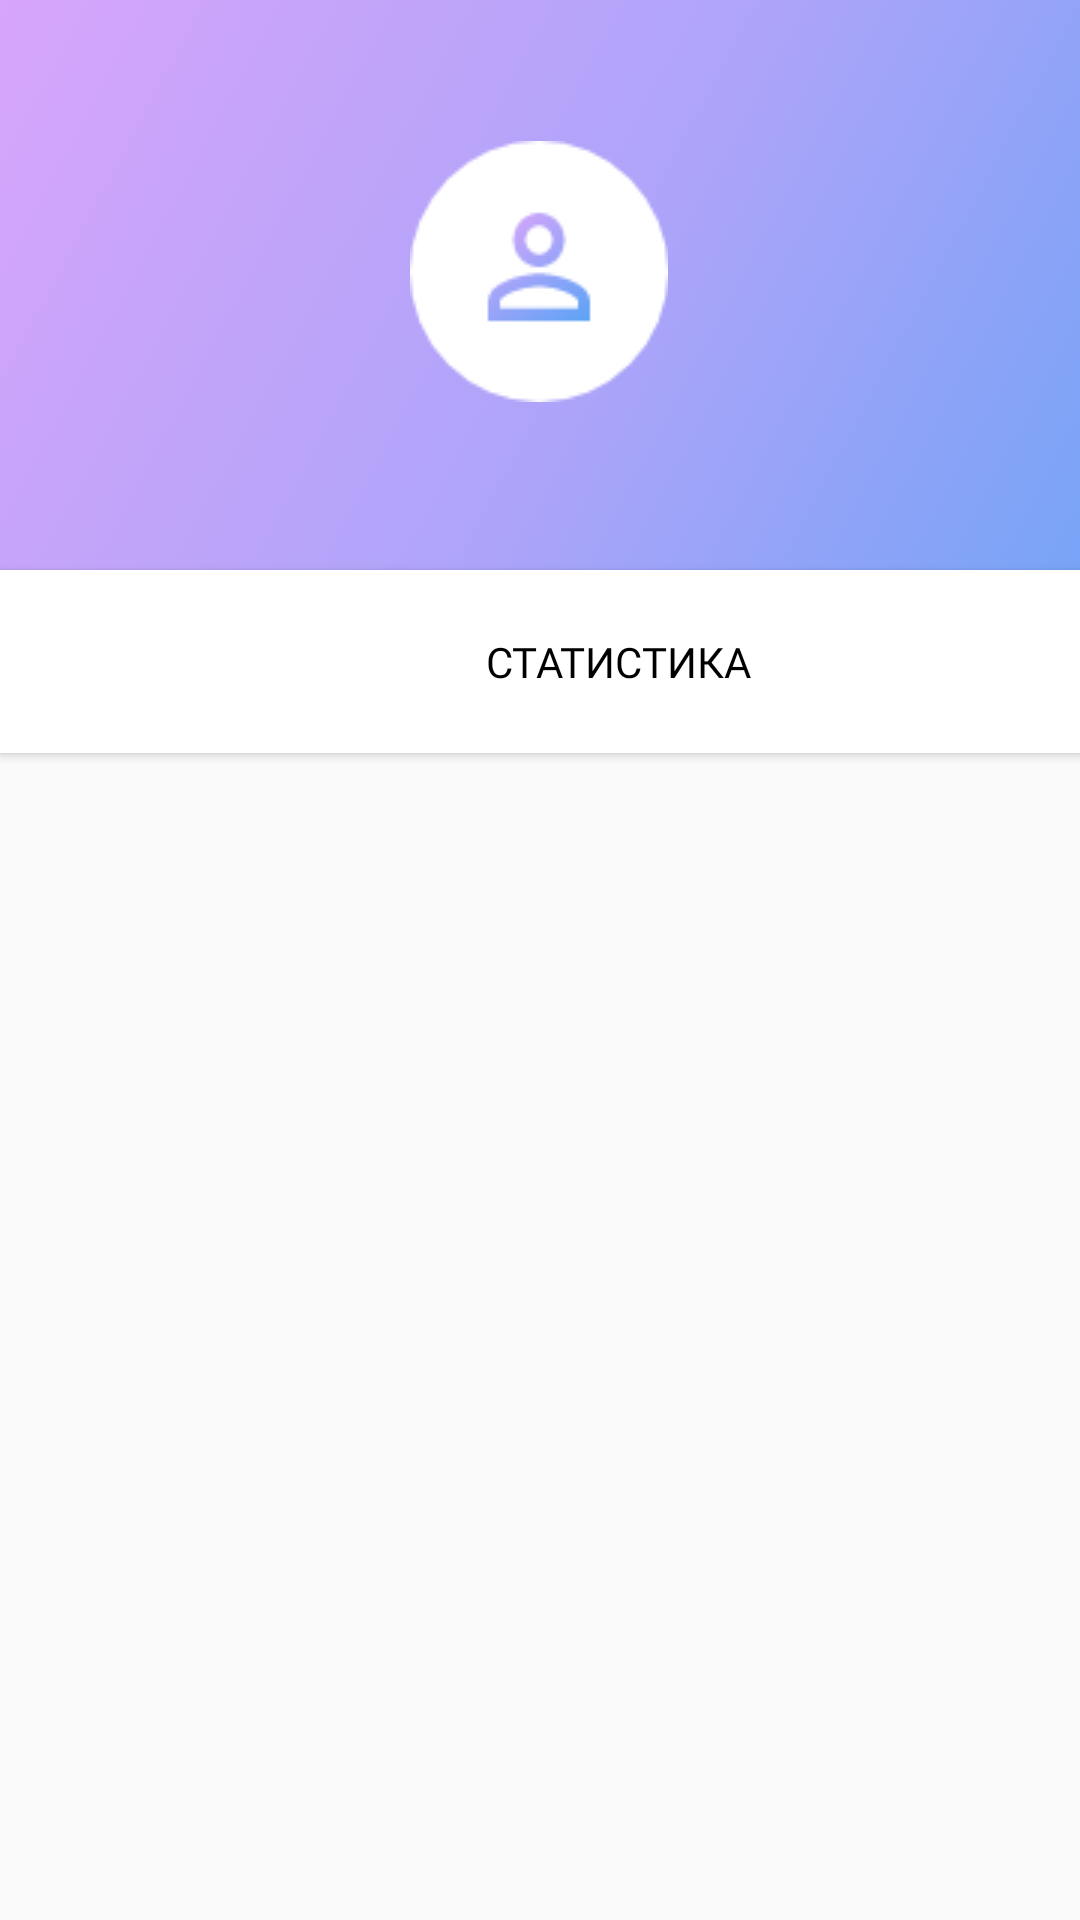

Named icons in this screenshot (1080x1920) and their bounding boxes, (x1, y1, x2, y2):
profile: (410, 141, 668, 402)
